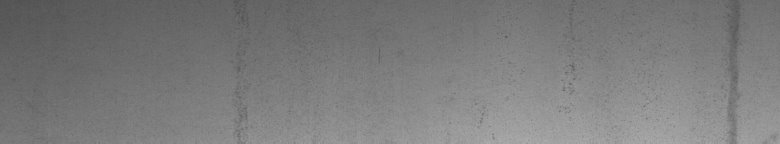ib: (497, 33, 575, 114)
